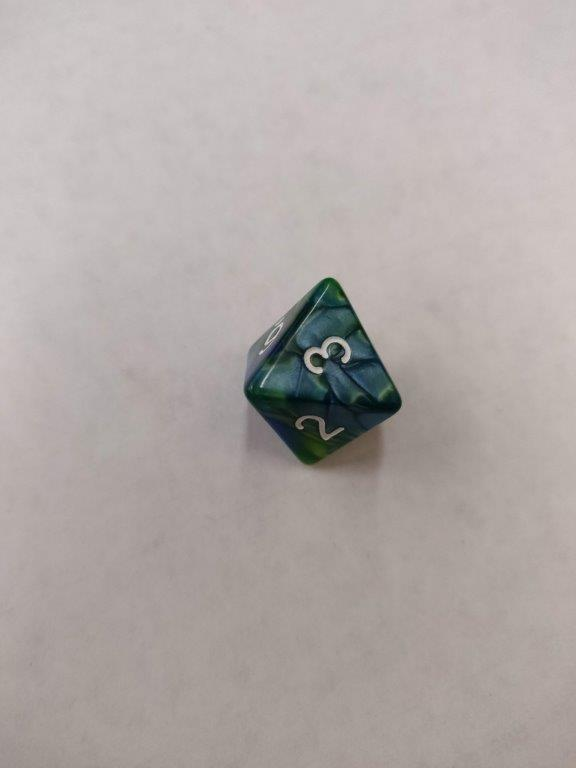d8-3: (244, 275, 405, 468)
